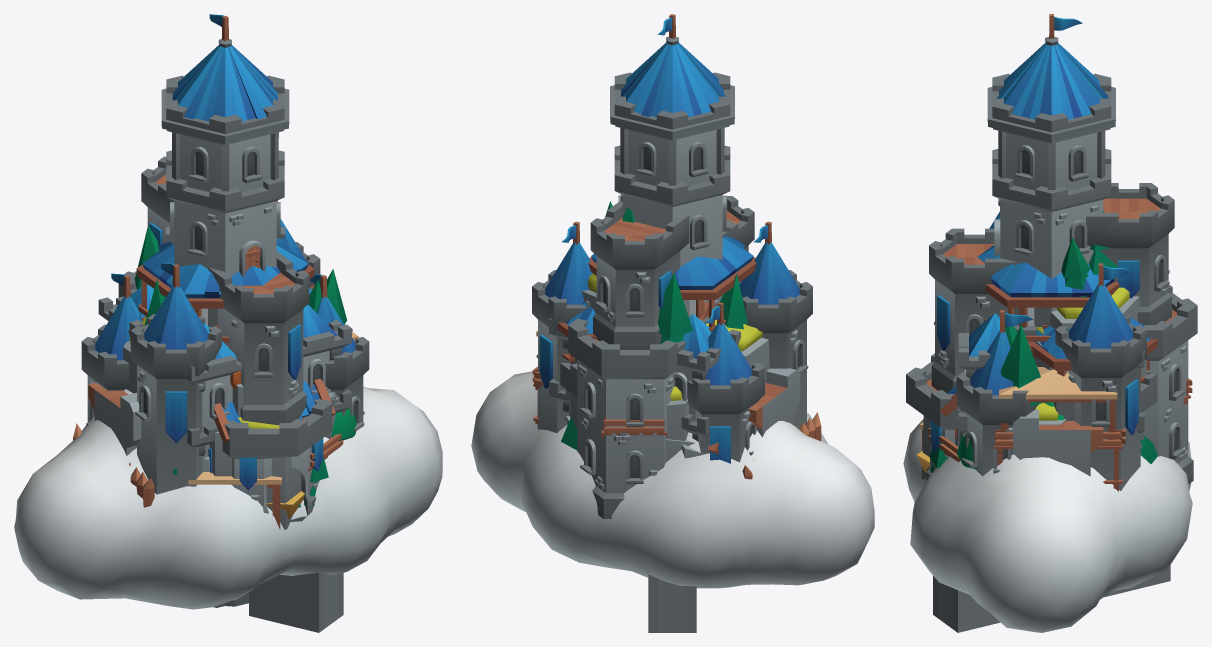
Rendered from kit.glb.
The picture shows the model from 3 angles, left to right: view 1: azimuth 30°, elevation 25°; view 2: azimuth 150°, elevation 25°; view 3: azimuth 270°, elevation 25°; orthographic projection. The views are drawn at different scales.
Visible parts, largest first — view 1: building_castle_blue, cloud_big, building_barracks_blue, building_bridge_A, building_tower_B_top_blue, mountain_C_grass, wall_straight, mountain_A_grass_trees, building_scaffolding, wall_straight_gate, building_watermill_blue, fence_wood_straight (+1 smaller); view 2: building_castle_blue, cloud_big, building_tower_B_top_blue, building_barracks_blue, building_bridge_A, mountain_A_grass_trees, mountain_C_grass, wall_straight, building_archeryrange_blue, building_scaffolding, mountain_B_grass_trees, wall_straight_gate; view 3: building_castle_blue, cloud_big, building_tower_B_top_blue, building_scaffolding, wall_straight, mountain_B_grass_trees, building_bridge_A, building_archeryrange_blue, building_barracks_blue, mountain_A_grass_trees, mountain_C_grass, trees_A_large (+1 smaller).
Part boxes in pixels (left/top/right/bottom): building_castle_blue: left=81, top=14, right=369, bottom=521; cloud_big: left=14, top=387, right=442, bottom=609; building_barracks_blue: left=98, top=284, right=351, bottom=472; building_bridge_A: left=213, top=572, right=343, bottom=632; building_tower_B_top_blue: left=136, top=240, right=314, bottom=348; mountain_C_grass: left=123, top=316, right=334, bottom=529; wall_straight: left=88, top=382, right=137, bottom=455; mountain_A_grass_trees: left=134, top=225, right=346, bottom=439; building_scaffolding: left=188, top=332, right=358, bottom=529; wall_straight_gate: left=90, top=394, right=141, bottom=455; building_watermill_blue: left=214, top=378, right=335, bottom=457; fence_wood_straight: left=73, top=423, right=154, bottom=507; building_castle_blue: left=532, top=14, right=812, bottom=518; cloud_big: left=471, top=371, right=874, bottom=588; building_tower_B_top_blue: left=588, top=235, right=756, bottom=332; building_barracks_blue: left=549, top=281, right=741, bottom=441; building_bridge_A: left=648, top=574, right=696, bottom=632; mountain_A_grass_trees: left=593, top=253, right=747, bottom=462; mountain_C_grass: left=570, top=319, right=769, bottom=440; wall_straight: left=749, top=368, right=800, bottom=436; building_archeryrange_blue: left=558, top=302, right=718, bottom=454; building_scaffolding: left=532, top=330, right=666, bottom=438; mountain_B_grass_trees: left=569, top=201, right=725, bottom=462; wall_straight_gate: left=748, top=370, right=800, bottom=437; building_castle_blue: left=906, top=14, right=1197, bottom=490; cloud_big: left=903, top=419, right=1192, bottom=632; building_tower_B_top_blue: left=977, top=245, right=1119, bottom=356; building_scaffolding: left=919, top=366, right=1192, bottom=491; wall_straight: left=1013, top=409, right=1103, bottom=476; mountain_B_grass_trees: left=1005, top=210, right=1146, bottom=424; building_bridge_A: left=933, top=565, right=1170, bottom=632; building_archeryrange_blue: left=1028, top=318, right=1158, bottom=449; building_barracks_blue: left=958, top=313, right=1144, bottom=433; mountain_A_grass_trees: left=959, top=324, right=1043, bottom=412; mountain_C_grass: left=922, top=405, right=1153, bottom=479; trees_A_large: left=926, top=433, right=1157, bottom=479.
Bounding box in the file's own units: 3.61 × 4.98 × 2.28.
1 material, 1 textured.
